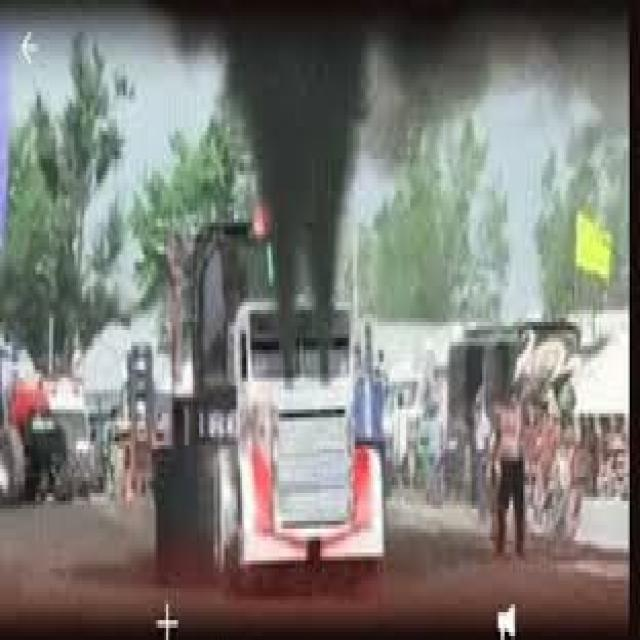Smoke: (132, 1, 630, 390)
